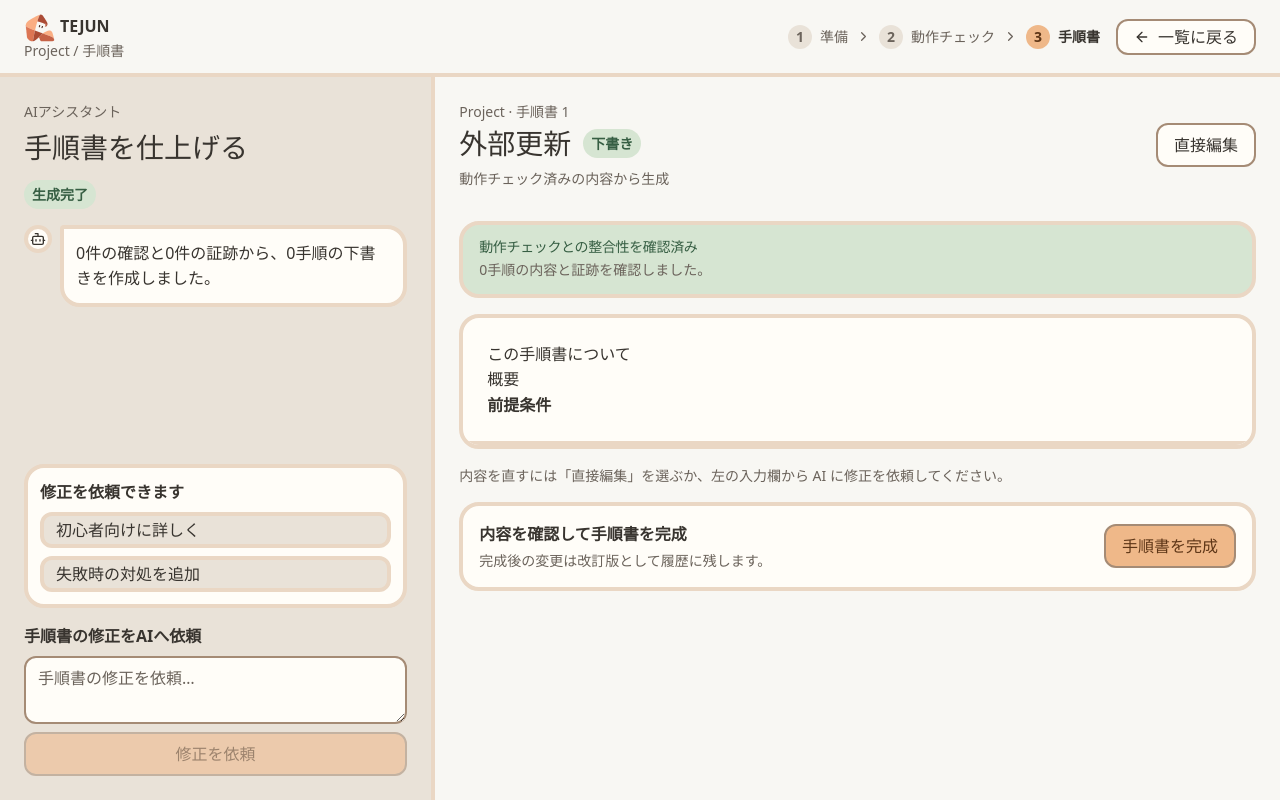
Eventで実画面を再取得し、編集保存のrevisionと結果を反映する
Expected: the heading "外部更新" is shown, [459,122,571,164]
Click the button "直接編集": (1206, 145) [1156,123,1256,167]
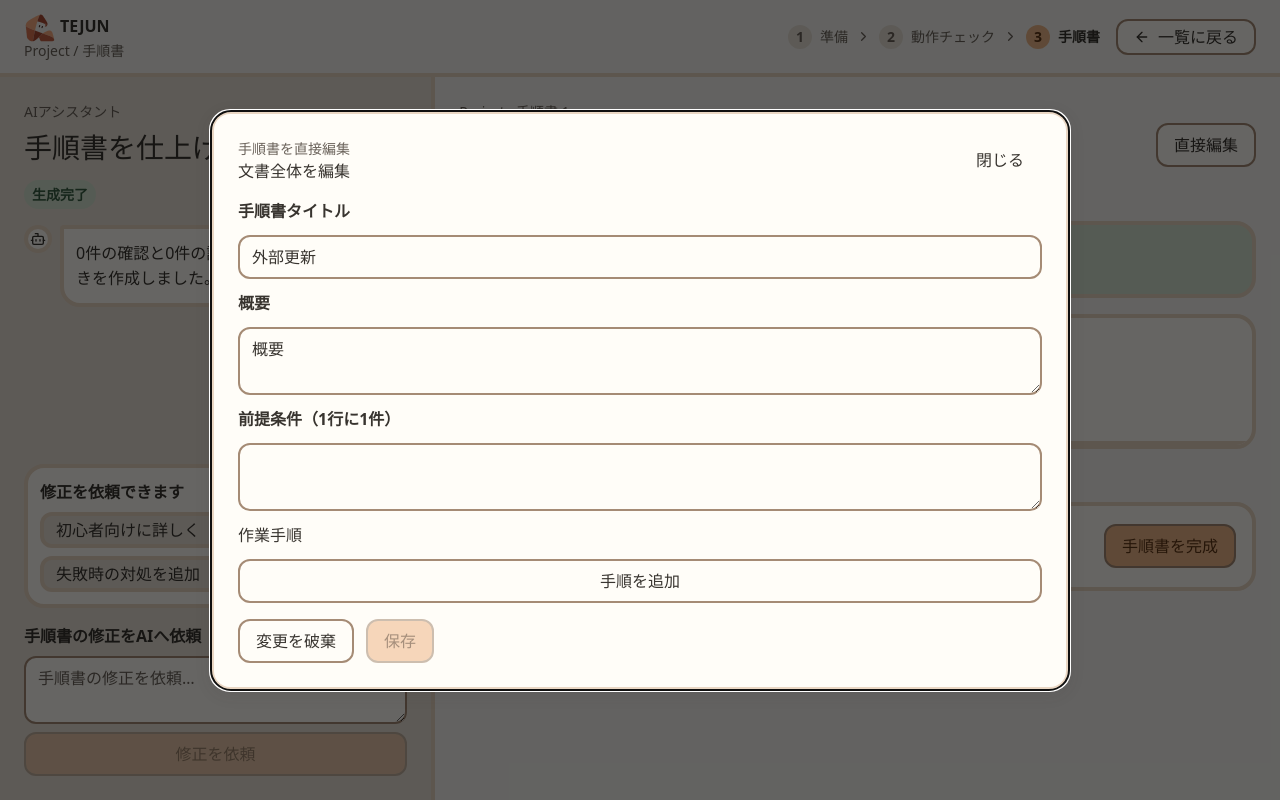
Replace the text in the field labelled "手順書タイトル" with "保存済み": (640, 256) [238,234,1042,278]
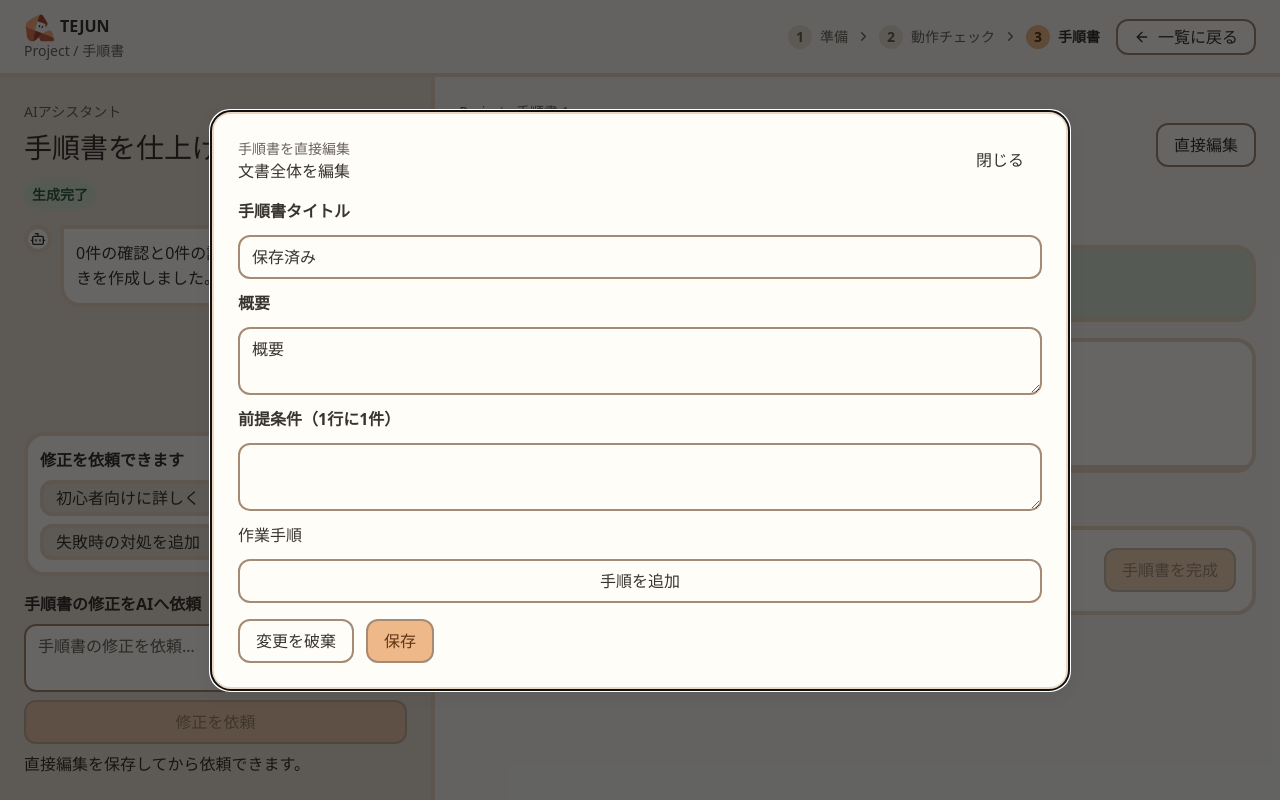
Click the button "保存": (400, 640) [366,618,434,662]
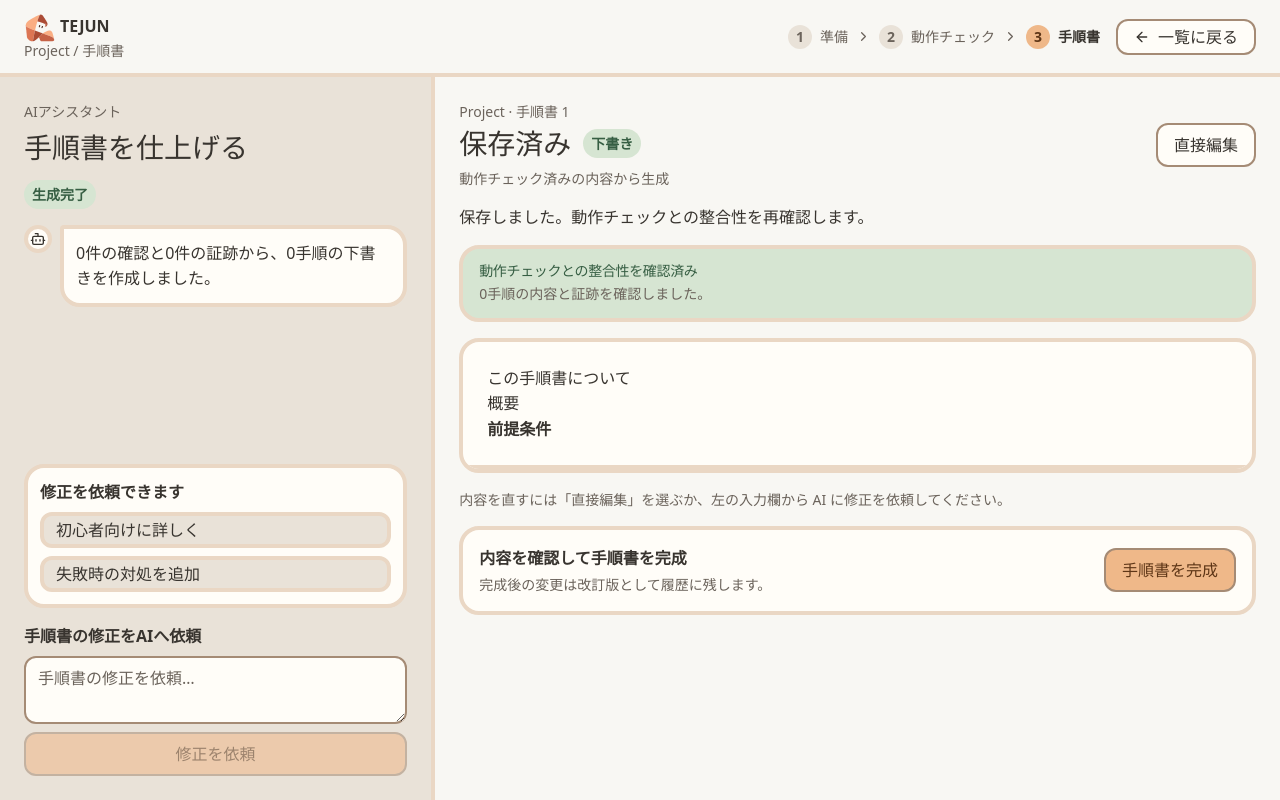
Result: the heading "保存済み" is shown at [459,122,571,164]
